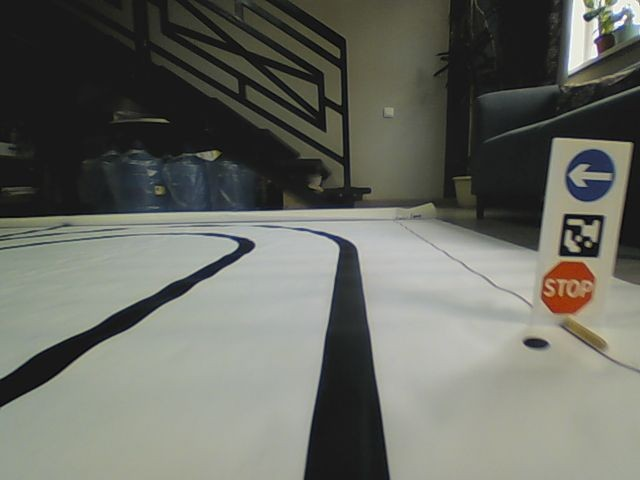Stop: (541, 261, 595, 314)
